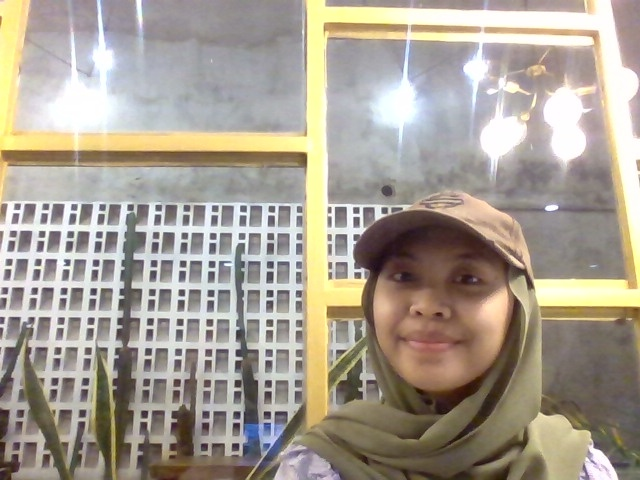Awake: (332, 188, 552, 474)
